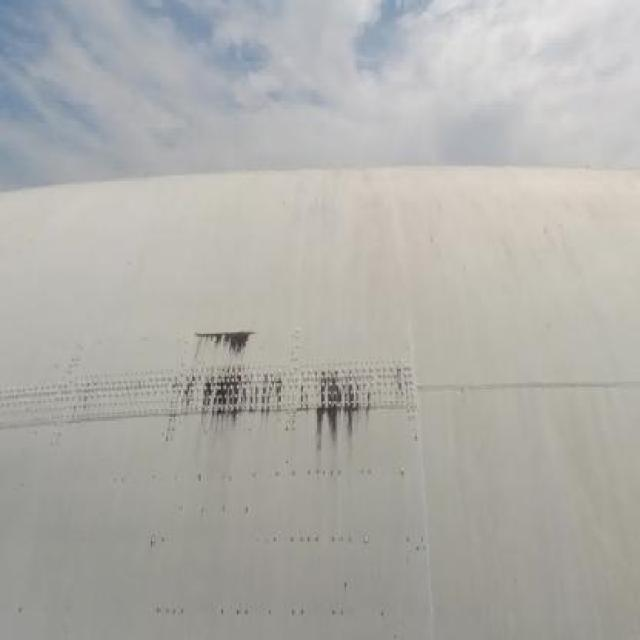Rust: (147, 293, 379, 482)
